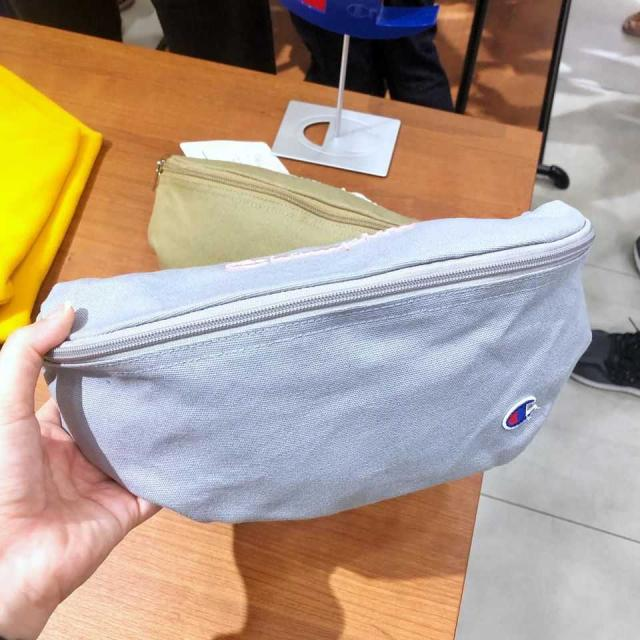handbag: (43, 200, 593, 526)
